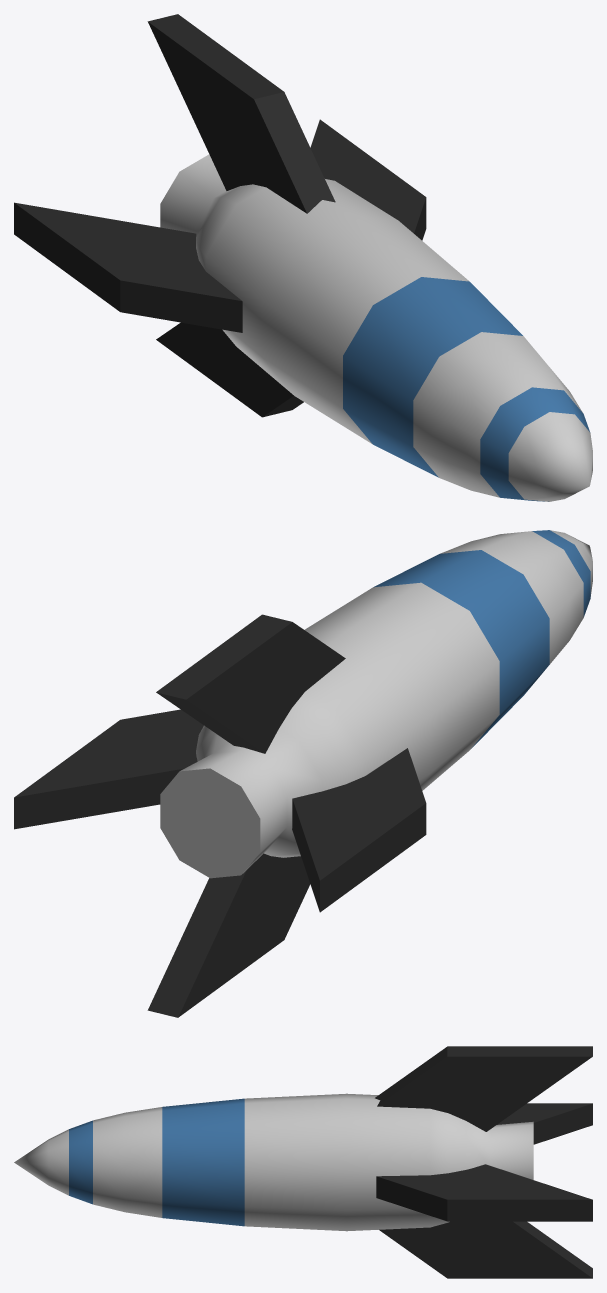
The model's file is Rocket.fbx.
3 views of the same model, one above another, from view 1: azimuth 30°, elevation 25°; view 2: azimuth 150°, elevation 25°; view 3: azimuth 270°, elevation 25° (orthographic). The views are drawn at different scales.
Visible parts, largest first — view 1: Rocket; view 2: Rocket; view 3: Rocket.
Boxes of the visible parts, x1,y1,x2,y2 form: Rocket: (14,14,592,501); Rocket: (14,530,592,1017); Rocket: (14,1046,592,1278).
Size of the model in its own units: 345 by 345 by 827.
